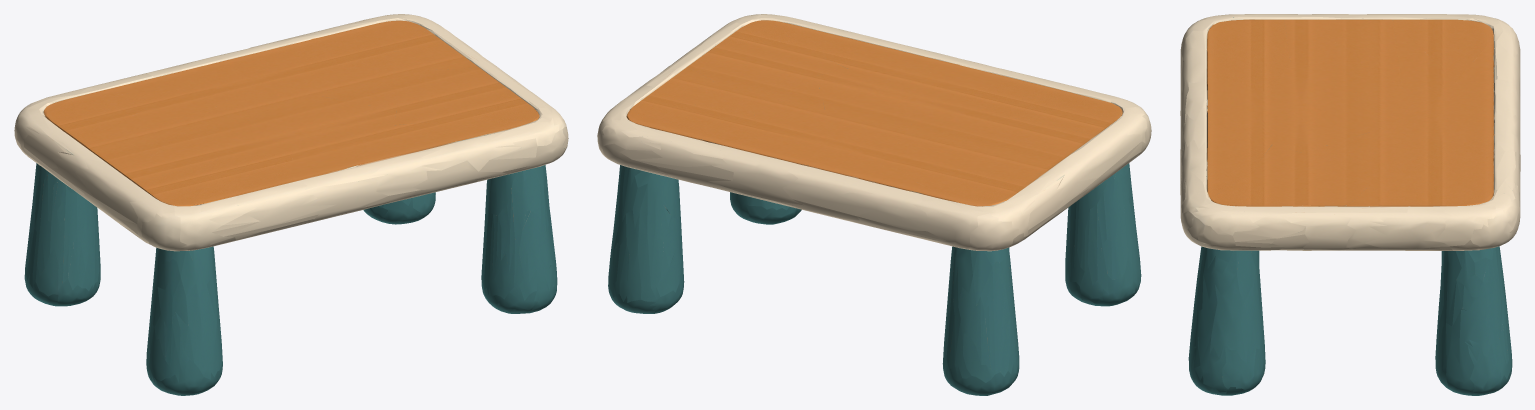
Rendered from restaurant-dining-table.glb.
3 renders of one model, left to right at view 1: azimuth 30°, elevation 25°; view 2: azimuth 150°, elevation 25°; view 3: azimuth 270°, elevation 25°, orthographic.
Visible parts, largest first — view 1: Mesh_0; view 2: Mesh_0; view 3: Mesh_0.
Part boxes in pixels (box(x1,y1,x2,y2)): Mesh_0: box(14, 14, 568, 395); Mesh_0: box(597, 14, 1151, 395); Mesh_0: box(1180, 14, 1520, 395).
Bounding box in the file's own units: 1.16 × 0.5022 × 0.8.
1 material, 1 textured.
